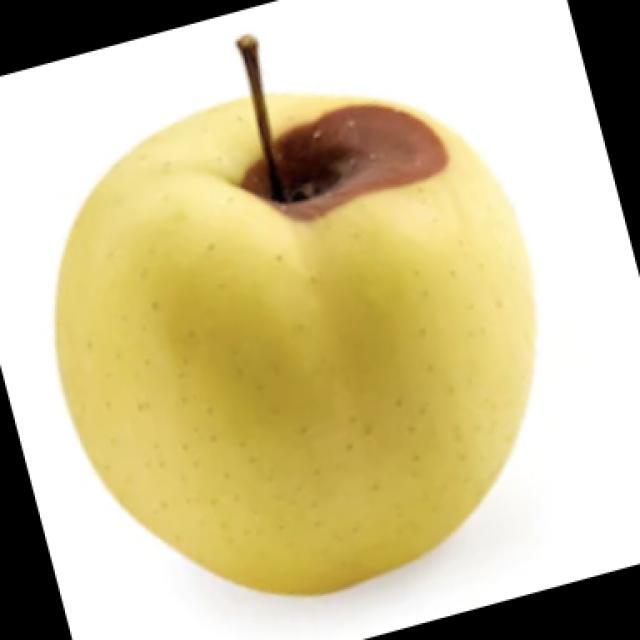Rotten: (65, 83, 533, 597)
